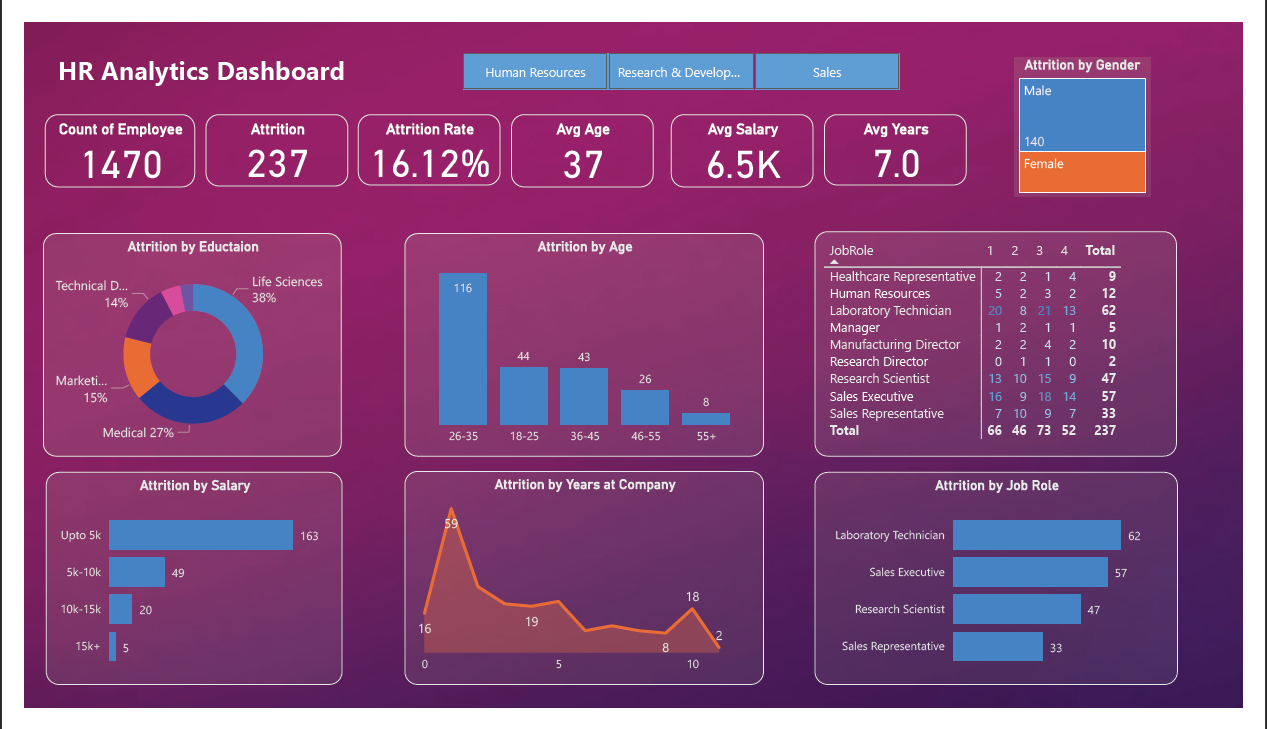

Layout of this report page (visuals, bound fields, positions):
{"tool":"powerbi","page":{"name":"Page 1","canvas":[1280,720],"ordinal":0},"visuals":[{"type":"card","title":"Avg Salary","fields":{"Values":["Avg(HR_Analytics.MonthlyIncome)"]},"box":[678.6,95.7,150,77.1],"z":0},{"type":"card","title":"Count of Employee","fields":{"Values":["CountNonNull(HR_Analytics.EmpID)"]},"box":[21.4,95.7,157.1,77.1],"z":1000},{"type":"card","title":"Attrition","fields":{"Values":["Sum(HR_Analytics.AttritionCount)"]},"box":[190,96,150,75.7],"z":2000},{"type":"card","title":"Attrition Rate","fields":{"Values":["HR_Analytics.AttritionRate"]},"box":[350,95.7,150,75.7],"z":3000},{"type":"card","title":"Avg Years","fields":{"Values":["Avg(HR_Analytics.YearsAtCompany)"]},"box":[840,95.7,150,75.7],"z":4000},{"type":"card","title":"Avg Age","fields":{"Values":["Avg(HR_Analytics.Age)"]},"box":[511.4,95.7,150,77.1],"z":5000},{"type":"donutChart","title":"Attrition by Eductaion","fields":{"Category":["HR_Analytics.EducationField"],"Y":["Sum(HR_Analytics.AttritionCount)"]},"box":[18.6,221.4,314.3,234.3],"z":6000},{"type":"pivotTable","title":"Attrition by Eductaion","fields":{"Rows":["HR_Analytics.JobRole"],"Columns":["HR_Analytics.JobSatisfaction"],"Values":["Sum(HR_Analytics.AttritionCount)"]},"box":[830,218.6,381.4,237.1],"z":7000},{"type":"columnChart","title":"Attrition by Age","fields":{"Category":["HR_Analytics.AgeGroup"],"Y":["Sum(HR_Analytics.AttritionCount)"]},"box":[398.6,221.4,378.6,234.3],"z":8000},{"type":"barChart","title":"Attrition by Salary","fields":{"Category":["HR_Analytics.SalarySlab"],"Y":["Sum(HR_Analytics.AttritionCount)"]},"box":[22,472,312,224],"z":9000},{"type":"barChart","title":"Attrition by Job Role","fields":{"Y":["Sum(HR_Analytics.AttritionCount)"],"Category":["HR_Analytics.JobRole"]},"box":[830,472,382,224],"z":10000},{"type":"areaChart","title":"Attrition by Years at Company","fields":{"Category":["HR_Analytics.YearsAtCompany"],"Y":["Sum(HR_Analytics.AttritionCount)"]},"box":[398.6,471.4,378.6,224.3],"z":11000},{"type":"treemap","title":"Attrition by Gender","fields":{"Group":["HR_Analytics.Gender"],"Values":["Sum(HR_Analytics.AttritionCount)"]},"box":[1040,35.7,142.9,147.1],"z":12000},{"type":"slicer","fields":{"Values":["HR_Analytics.Department"]},"box":[435,25,508.3,51.7],"z":13000},{"type":"textbox","box":[30,25.7,345.7,58.6],"z":14000}]}

Visuals, with their boxes in screenshot pixels (x1, y1, x2, y2), scaled from the page's 1280x720 canvas onto the 1267x729 screenshot:
"Avg Salary" card: <box>672,97,820,175</box>
"Count of Employee" card: <box>21,97,177,175</box>
"Attrition" card: <box>188,97,337,174</box>
"Attrition Rate" card: <box>346,97,495,174</box>
"Avg Years" card: <box>831,97,980,174</box>
"Avg Age" card: <box>506,97,655,175</box>
"Attrition by Eductaion" donutChart: <box>18,224,330,461</box>
"Attrition by Eductaion" pivotTable: <box>822,221,1199,461</box>
"Attrition by Age" columnChart: <box>395,224,769,461</box>
"Attrition by Salary" barChart: <box>22,478,331,705</box>
"Attrition by Job Role" barChart: <box>822,478,1200,705</box>
"Attrition by Years at Company" areaChart: <box>395,477,769,704</box>
"Attrition by Gender" treemap: <box>1029,36,1171,185</box>
slicer - HR_Analytics.Department: <box>431,25,934,78</box>
textbox: <box>30,26,372,85</box>
